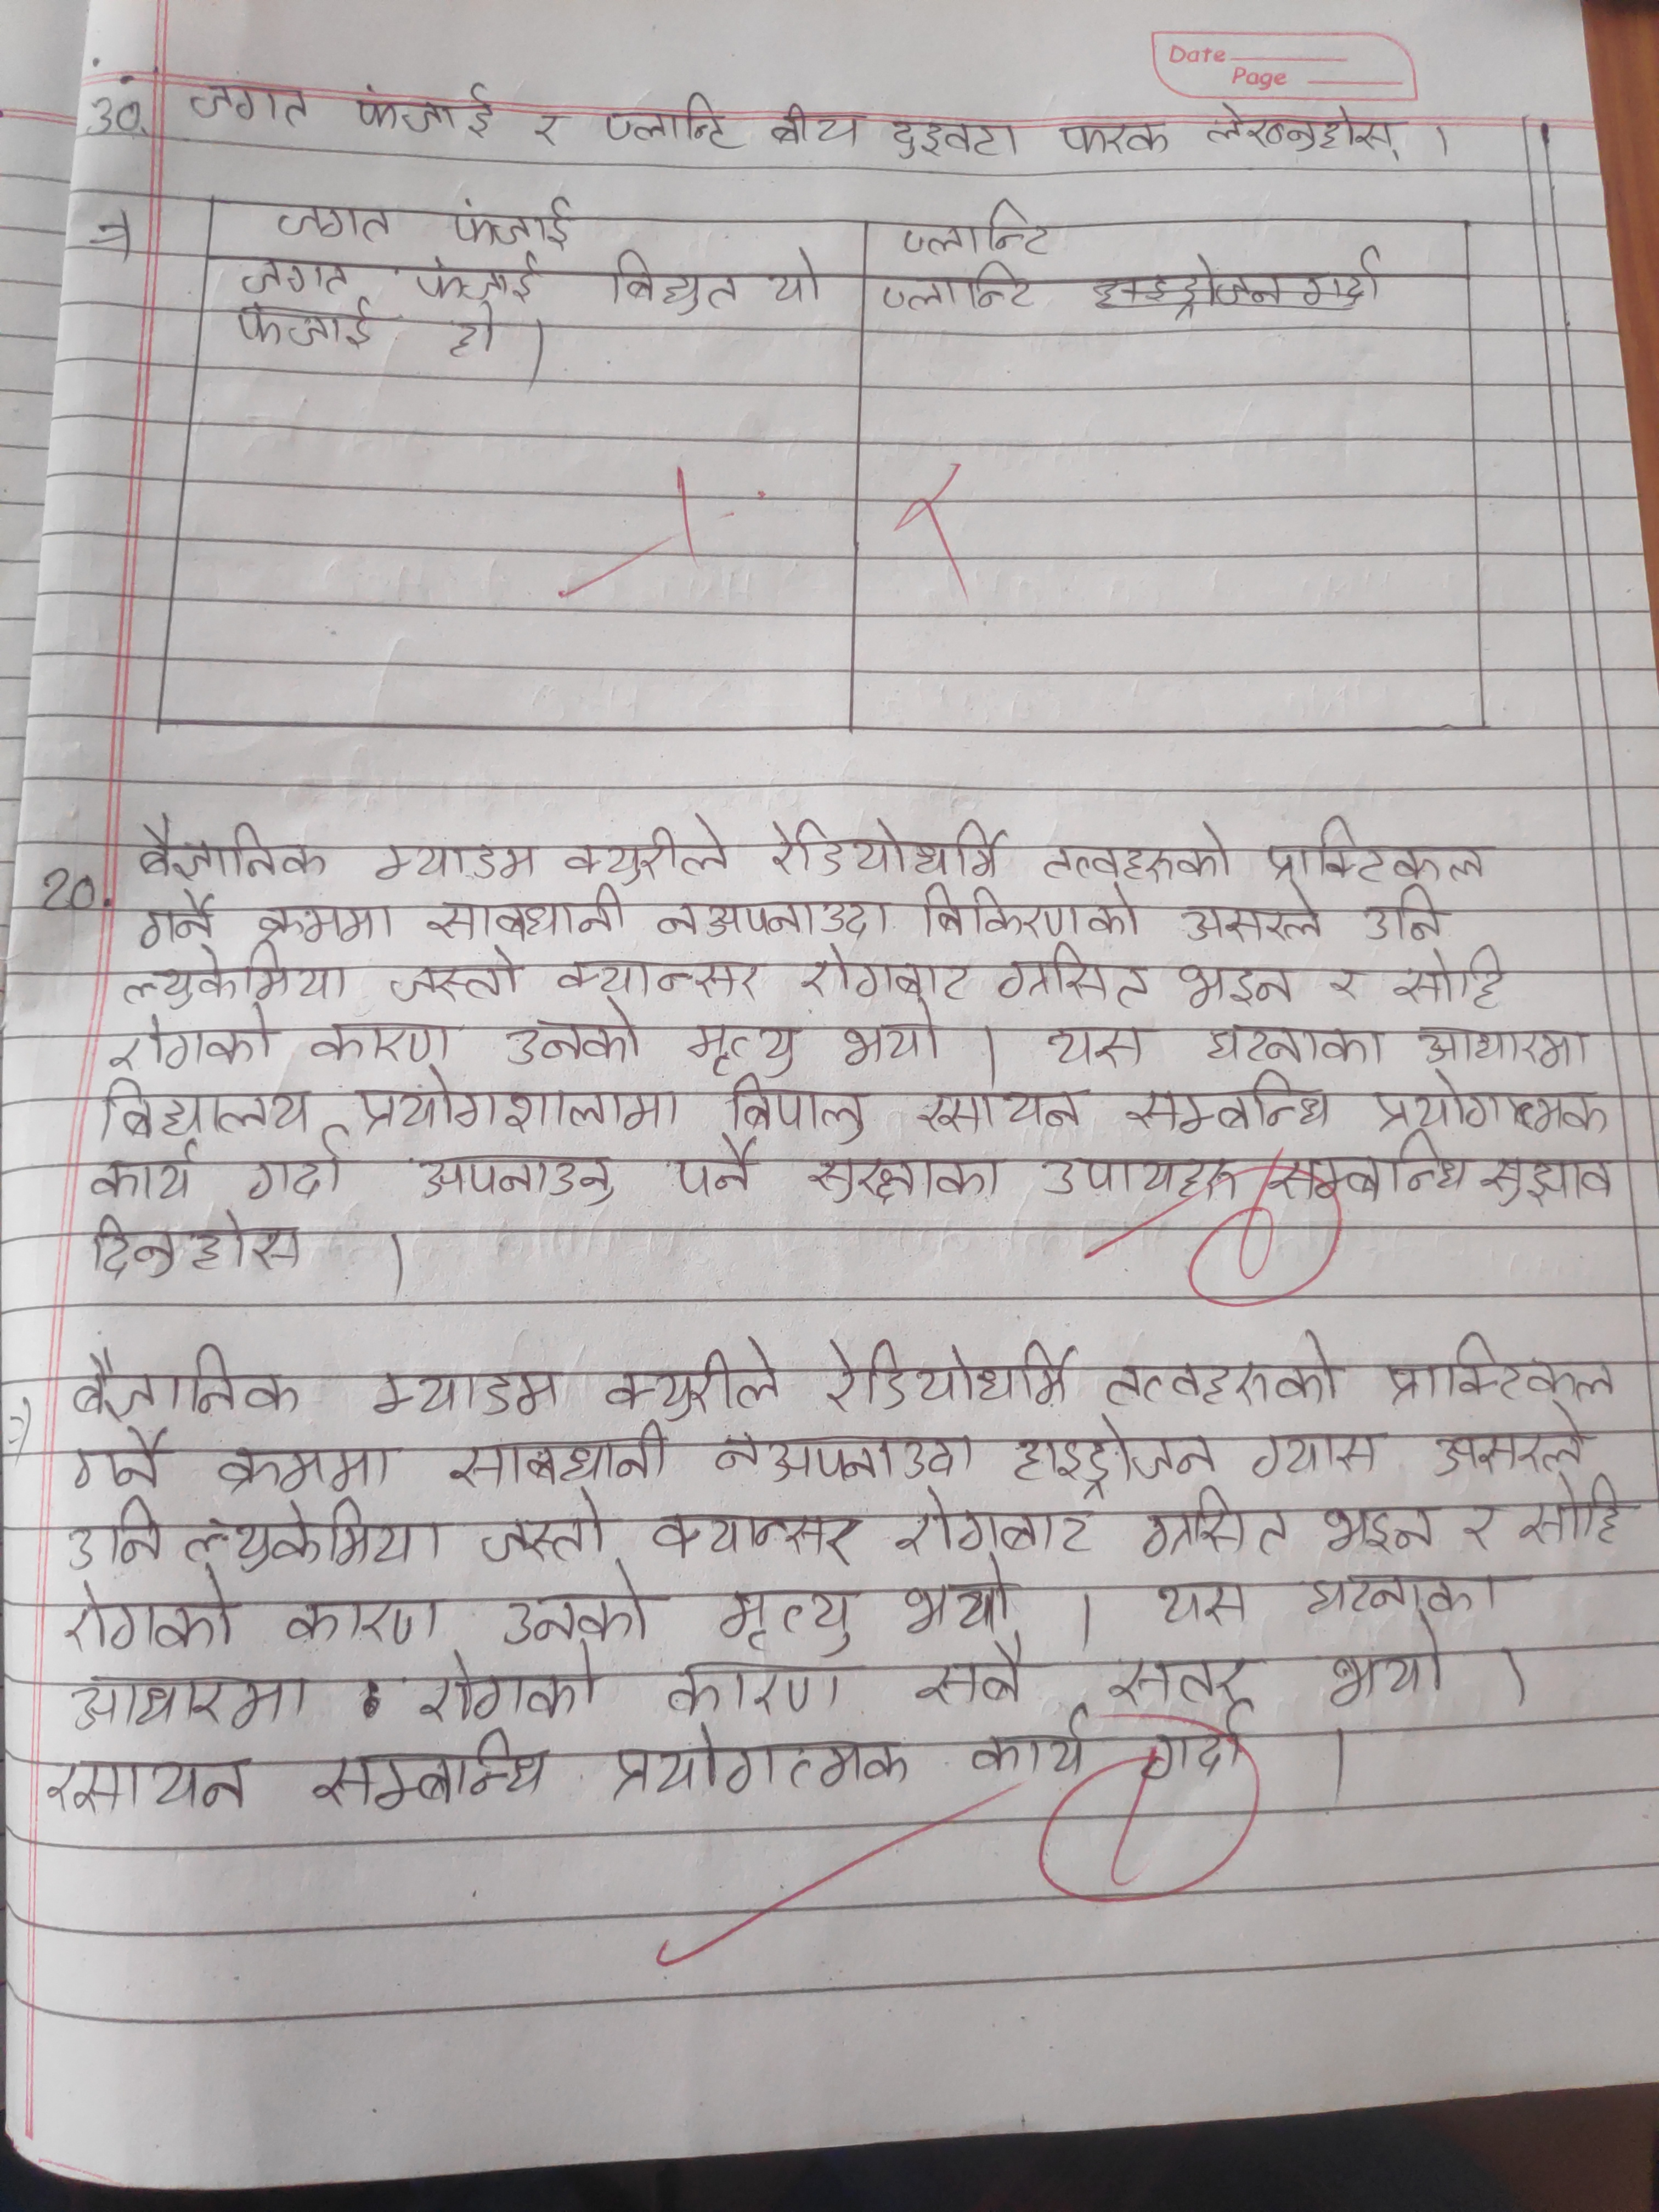text: (347, 1064, 687, 1146), (816, 1320, 1077, 1416), (176, 1493, 464, 1575), (610, 1723, 918, 1797), (758, 799, 1014, 888), (1366, 1062, 1622, 1139), (1382, 1329, 1622, 1409), (85, 1068, 326, 1146), (1000, 1411, 1230, 1493), (1100, 1336, 1349, 1409), (71, 1345, 307, 1421), (1263, 810, 1492, 888), (315, 1733, 559, 1806), (706, 1421, 990, 1484), (917, 878, 1154, 951), (59, 1669, 321, 1735), (443, 1418, 683, 1489), (413, 1639, 606, 1726), (78, 1207, 312, 1278), (890, 1484, 1103, 1562), (37, 1745, 254, 1820), (598, 1334, 782, 1421), (112, 942, 347, 1010), (1253, 1136, 1471, 1209), (1121, 1069, 1347, 1139), (650, 894, 908, 954), (59, 1573, 254, 1653), (127, 813, 329, 890), (659, 1651, 854, 1723), (1199, 94, 1408, 160), (552, 946, 762, 1012), (558, 808, 727, 890), (1037, 817, 1239, 885), (796, 1141, 1012, 1204), (1429, 1397, 1591, 1480), (1039, 1143, 1237, 1211), (491, 1564, 655, 1646), (422, 885, 633, 948), (410, 1146, 613, 1211), (903, 1075, 1093, 1143), (1298, 1568, 1516, 1627), (1317, 1615, 1457, 1707), (647, 1507, 868, 1564), (1178, 871, 1328, 954), (369, 1360, 568, 1423), (708, 1578, 864, 1656), (793, 941, 978, 1007), (206, 1437, 413, 1494), (350, 73, 502, 150), (471, 1482, 622, 1559), (307, 1005, 465, 1078), (497, 1000, 655, 1073), (892, 1555, 1028, 1639), (369, 941, 528, 1012), (894, 199, 1065, 265), (1134, 1489, 1297, 1559), (105, 1010, 282, 1073), (999, 941, 1154, 1012), (1396, 1019, 1600, 1071), (591, 244, 742, 314), (957, 1707, 1094, 1784), (875, 265, 1051, 324), (282, 1588, 451, 1649), (1201, 1012, 1385, 1066), (1100, 1649, 1258, 1712), (720, 1073, 868, 1139), (1513, 1479, 1635, 1559), (448, 188, 589, 256), (596, 89, 744, 153), (1239, 1423, 1392, 1484), (260, 190, 404, 254), (1314, 1491, 1450, 1559), (1385, 946, 1525, 1012), (371, 833, 547, 885), (673, 1012, 810, 1078), (913, 1642, 1039, 1714), (835, 1000, 957, 1073), (1480, 1148, 1629, 1207), (235, 294, 389, 352), (246, 892, 404, 946), (61, 1420, 174, 1494), (66, 1498, 173, 1576), (1147, 1568, 1253, 1646), (404, 247, 549, 305), (1143, 1712, 1256, 1785), (185, 71, 322, 129), (878, 110, 1026, 162), (89, 1134, 206, 1200), (1180, 951, 1295, 1015), (666, 1134, 770, 1204), (1354, 880, 1457, 949), (240, 1141, 354, 1202), (232, 253, 382, 298), (131, 881, 220, 956), (1040, 1015, 1159, 1071), (765, 94, 871, 155), (1051, 111, 1175, 164), (765, 237, 831, 312), (1445, 1484, 1509, 1555), (444, 300, 512, 364), (528, 105, 573, 155), (1328, 958, 1370, 1007)
